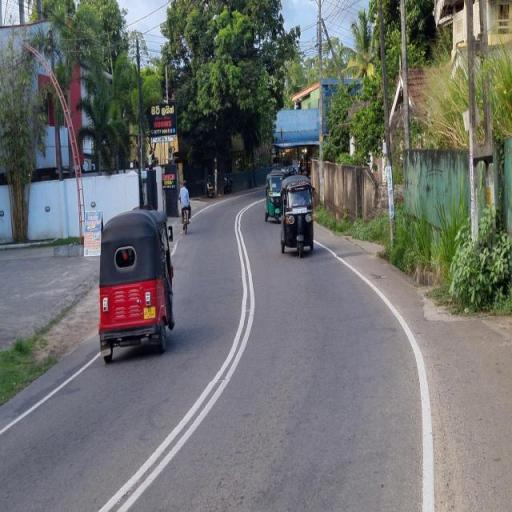double_white_line: (99, 197, 259, 512), (0, 350, 100, 436)
